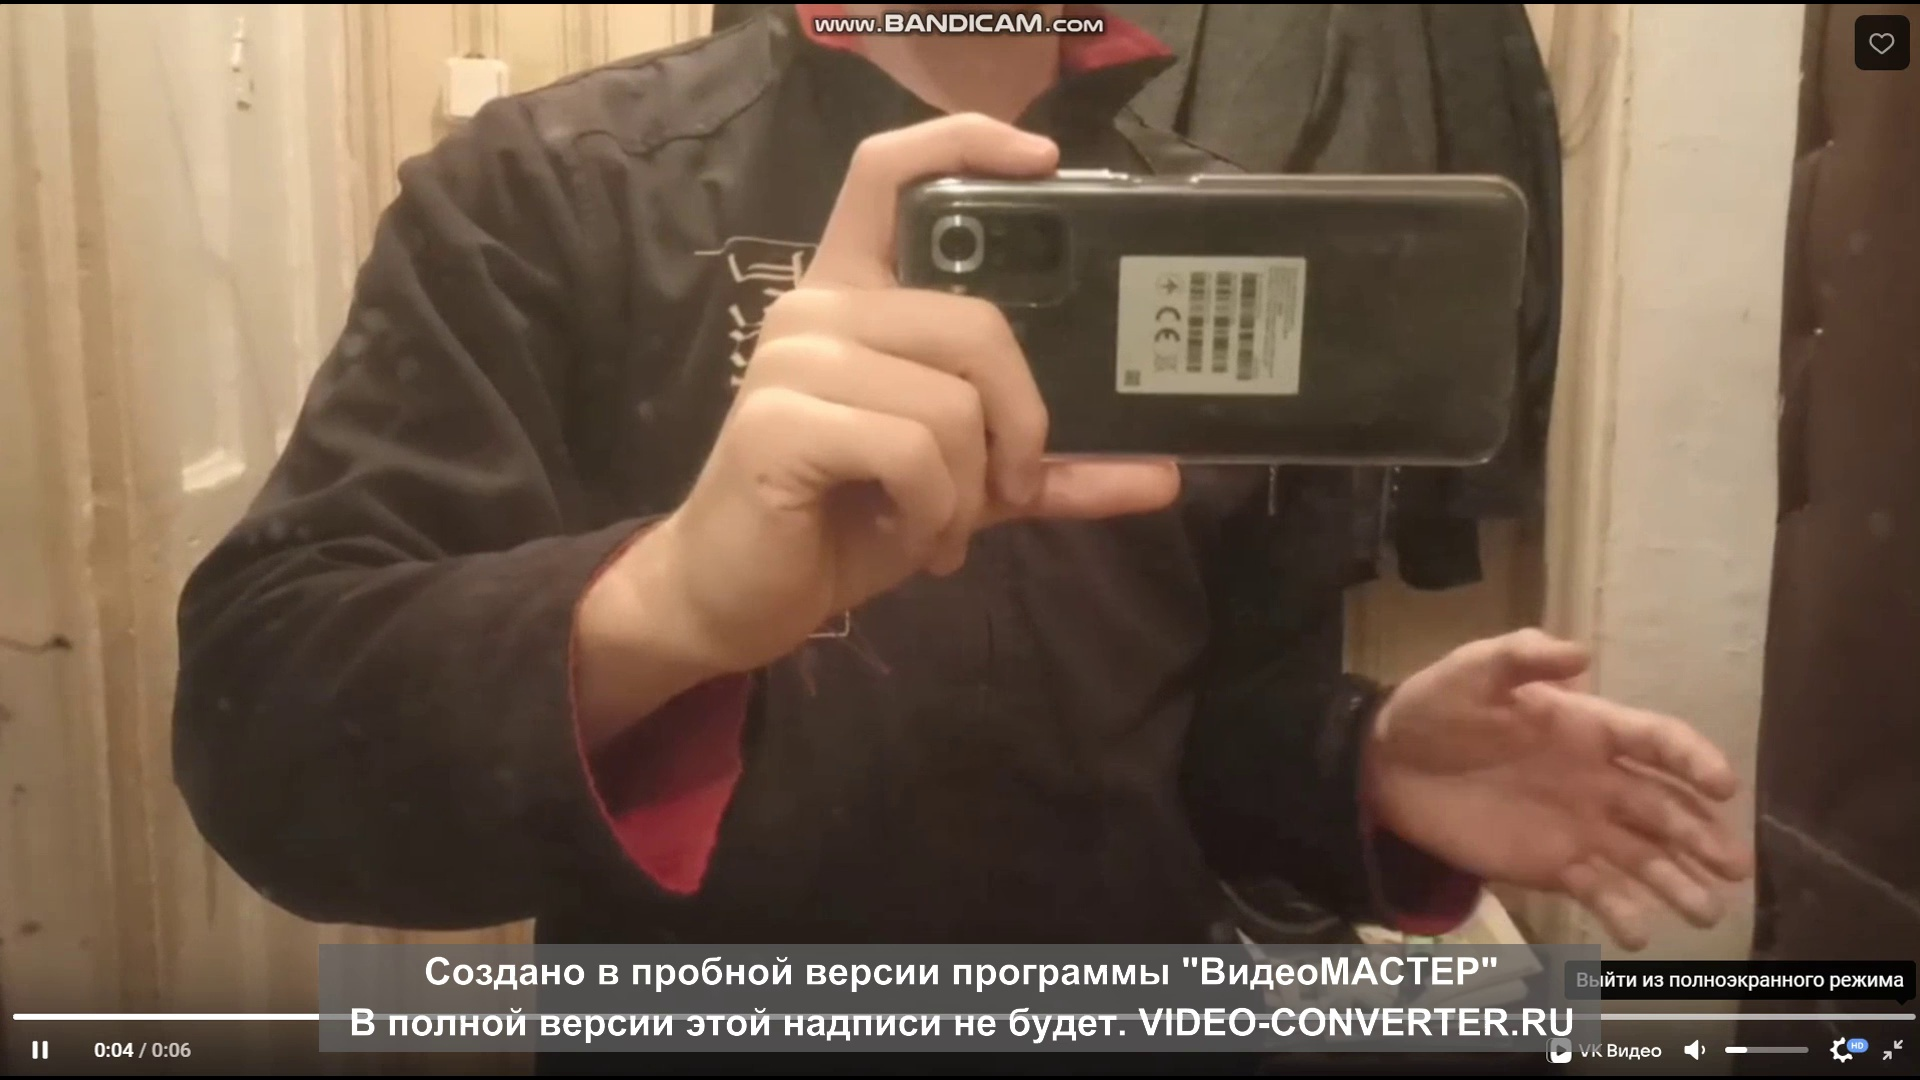Ладонь: (1386, 624, 1747, 935)
